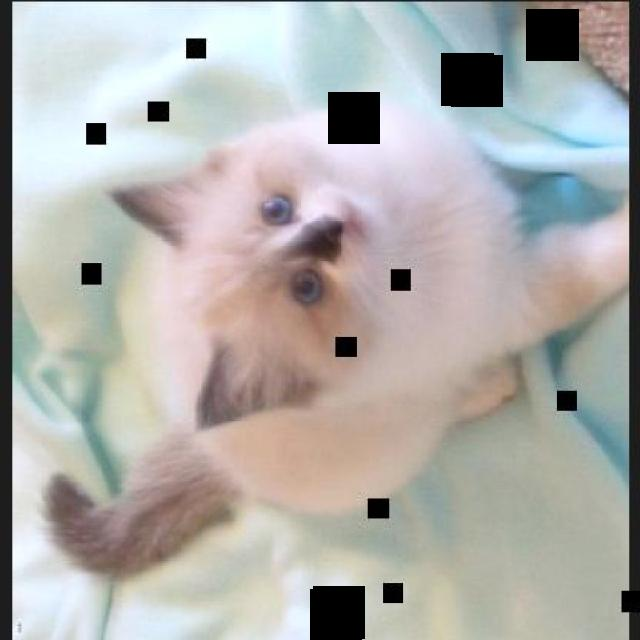unauthorized: (40, 97, 628, 580)
